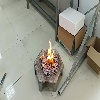fire: (41, 39, 55, 70)
